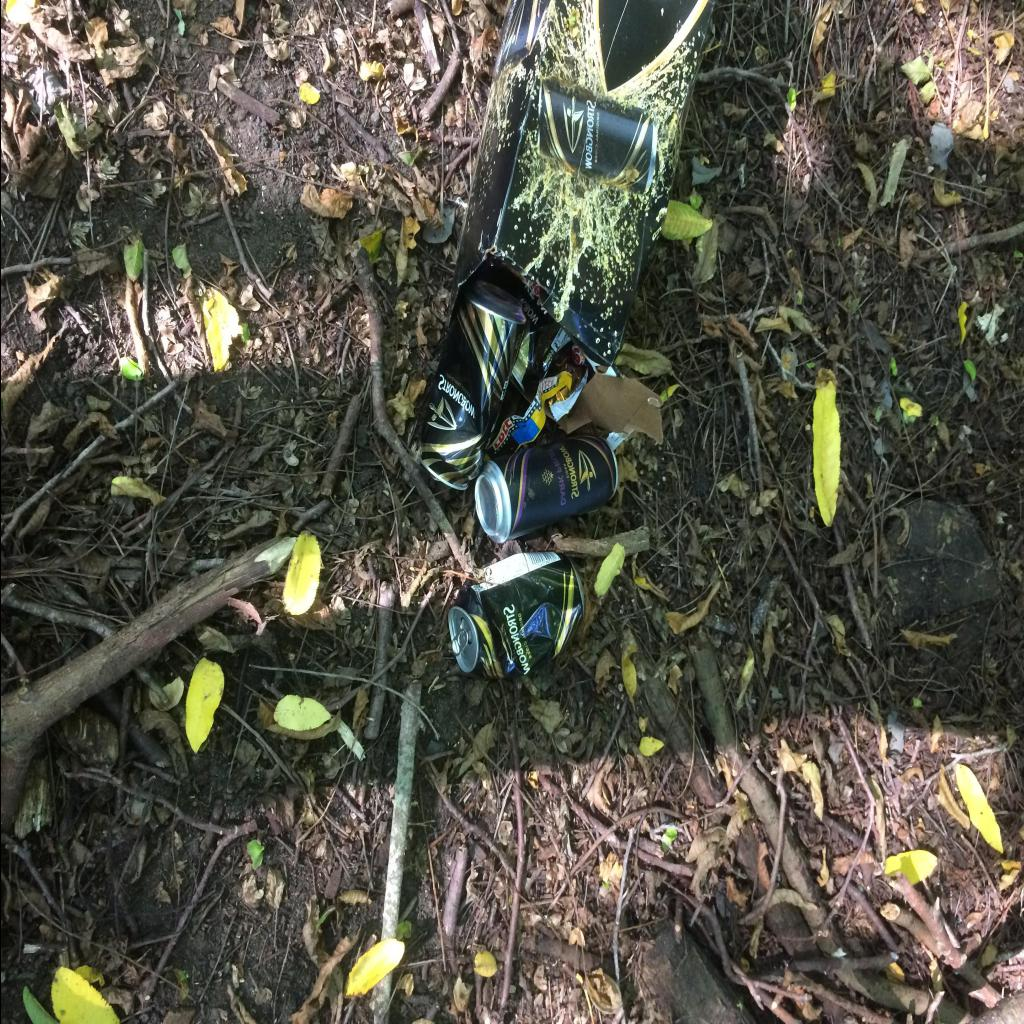Drink can: (418, 280, 525, 490), (447, 552, 583, 678), (474, 434, 618, 544), (510, 284, 570, 392)
Other carton: (446, 0, 715, 444)
Other plastic: (486, 372, 570, 460), (542, 340, 587, 421)
Pop tab: (451, 628, 467, 656)
